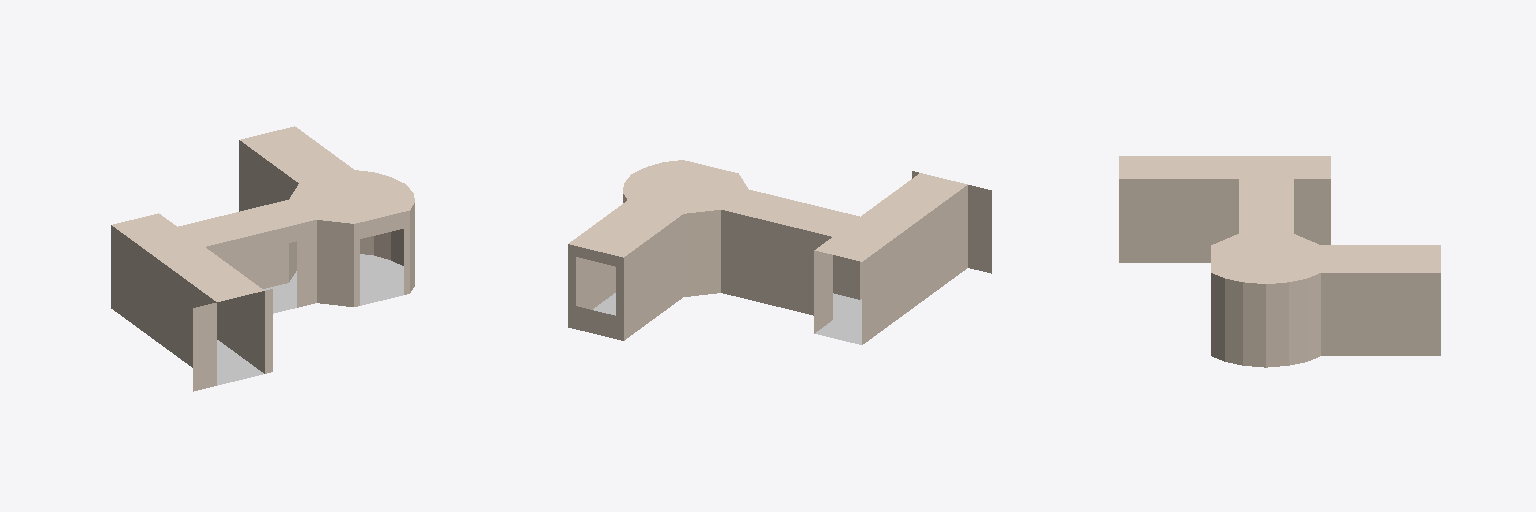
File: L28-Hallway-8.obj
3 renders of one model, left to right at view 1: azimuth 30°, elevation 25°; view 2: azimuth 150°, elevation 25°; view 3: azimuth 270°, elevation 25°, orthographic.
Visible parts, largest first — view 1: L28-Hallway-8; view 2: L28-Hallway-8; view 3: L28-Hallway-8.
Part boxes in pixels (bbox=[...]): L28-Hallway-8: bbox=[111, 126, 414, 391]; L28-Hallway-8: bbox=[568, 160, 991, 344]; L28-Hallway-8: bbox=[1119, 156, 1440, 367].
Size of the model in its own units: 18 by 5 by 17.5.